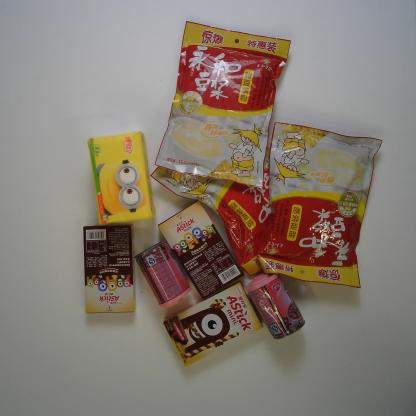Canned Food: (243, 270, 306, 340), (135, 241, 193, 315)
Dessert: (154, 198, 246, 302), (161, 280, 264, 370), (80, 223, 136, 316)
Instant Drink: (154, 19, 294, 191), (254, 121, 384, 289), (150, 144, 276, 278)
Tissue: (84, 130, 155, 228)
